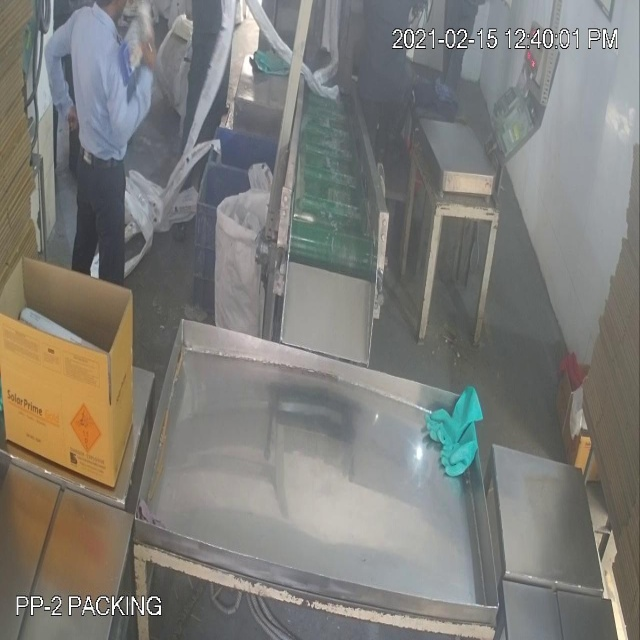Guantes: (424, 384, 488, 485)
Sin_guantes: (90, 24, 161, 146), (38, 28, 83, 146)
